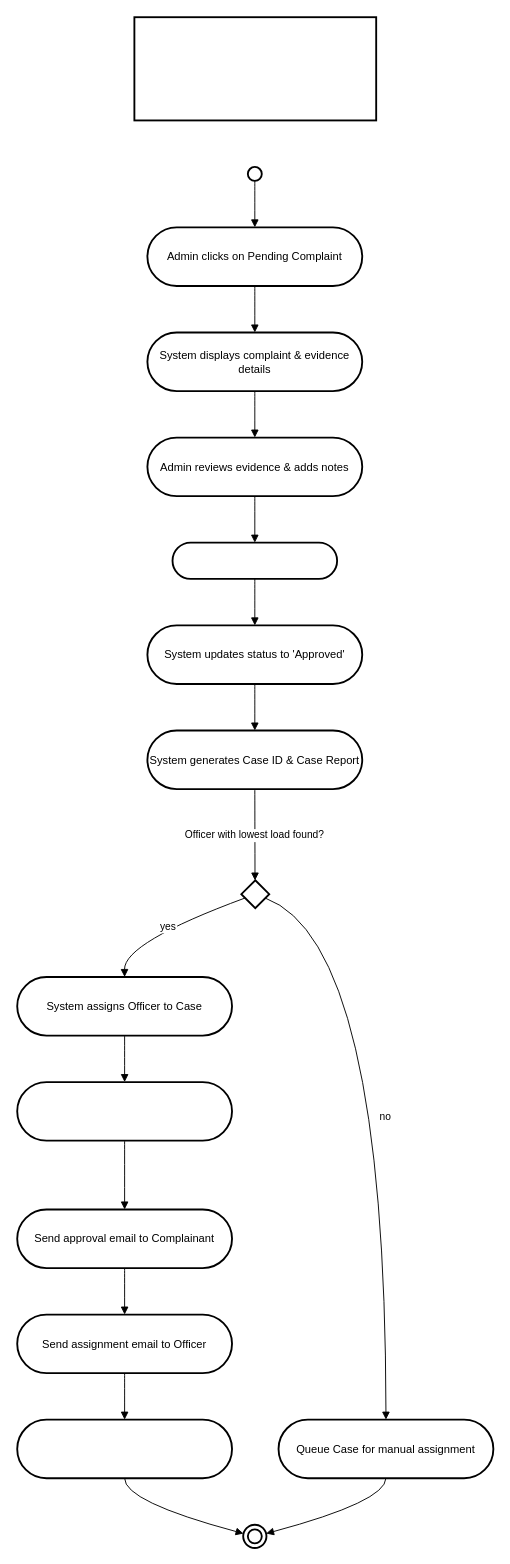
The diagram is 510 pixels wide and 1564 high, and some of its shapes have lost their labels. Each missing label, with the box of its shape:
Activity Diagram: Complaint Approval & Case Creation: (133, 16, 377, 121)
Admin clicks Approve: (171, 541, 338, 579)
Refresh Dashboard with Success Message: (16, 1418, 232, 1479)
System creates Activity Logs: (16, 1081, 232, 1141)
